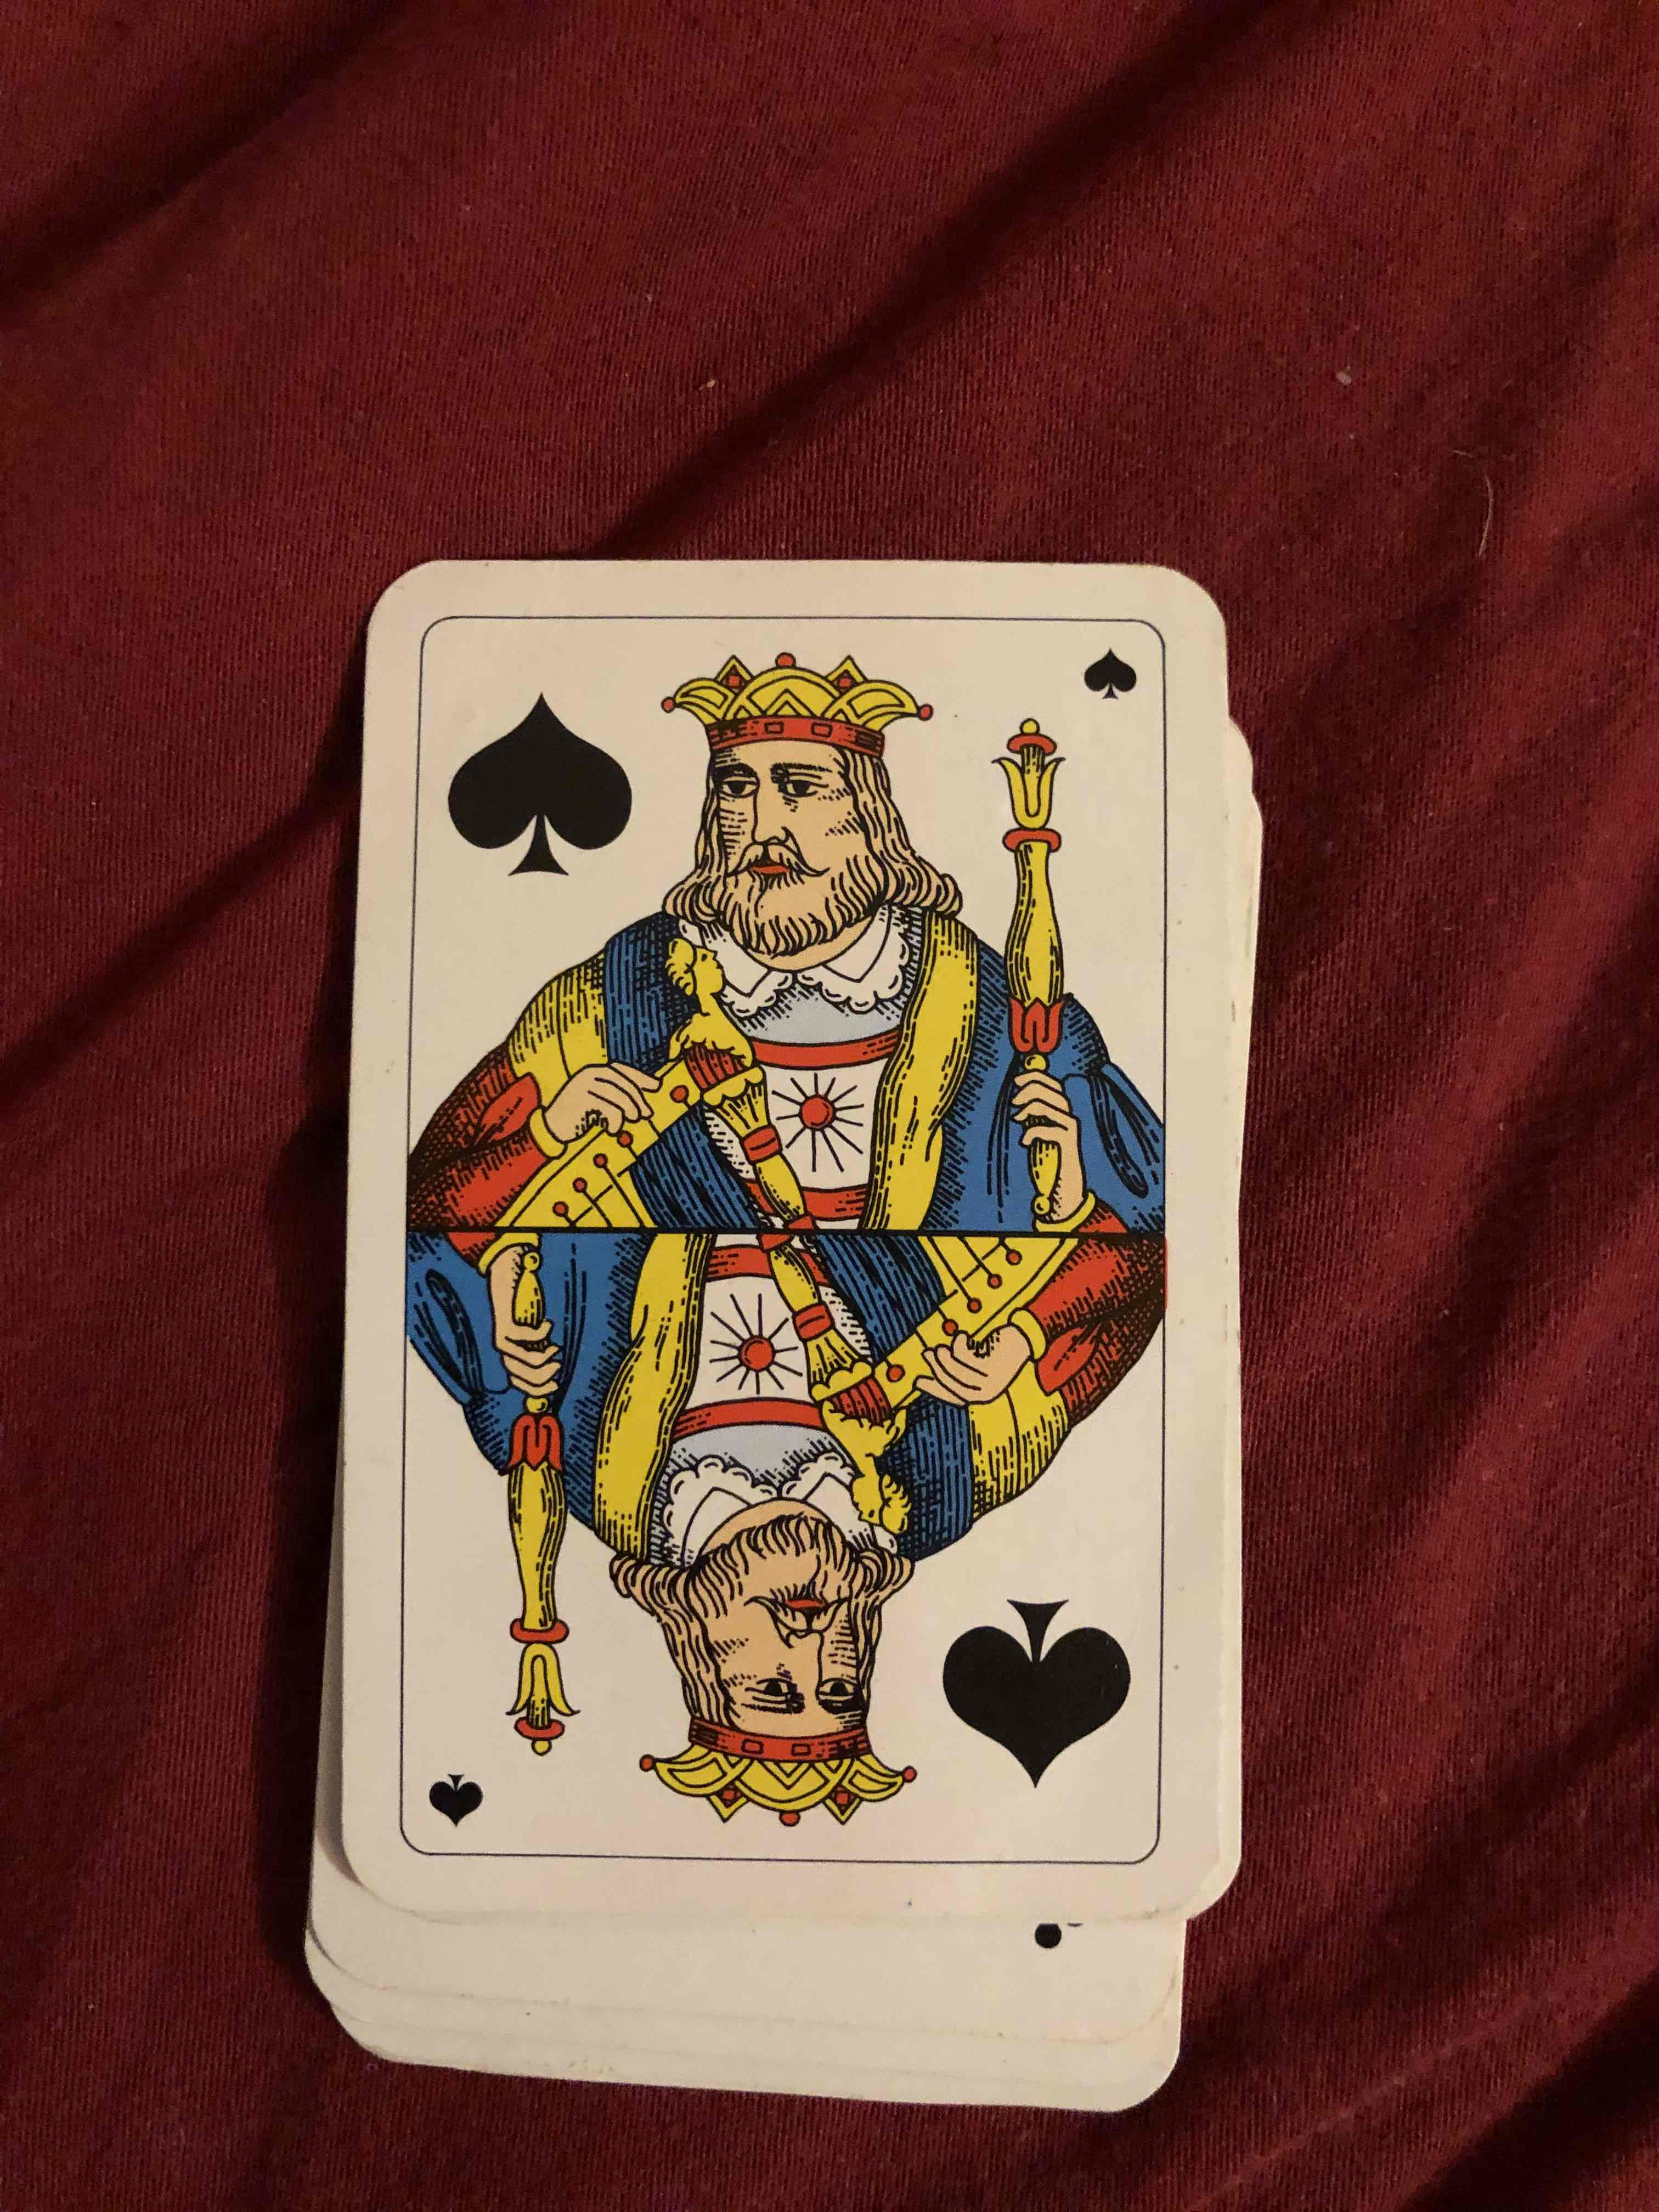spadesKing: (373, 550, 1244, 1890)
